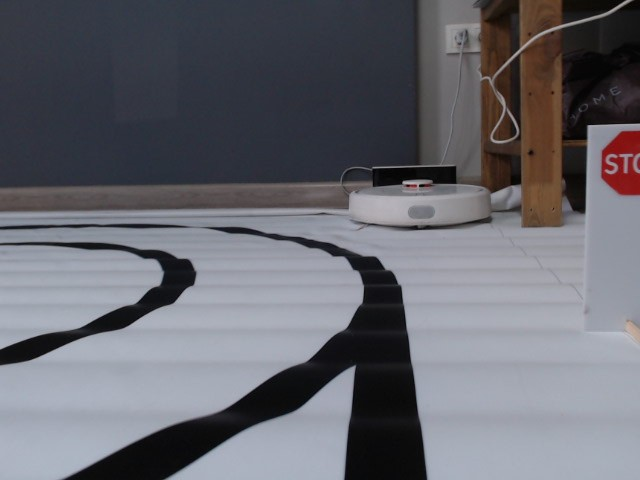Stop: (599, 129, 640, 199)
